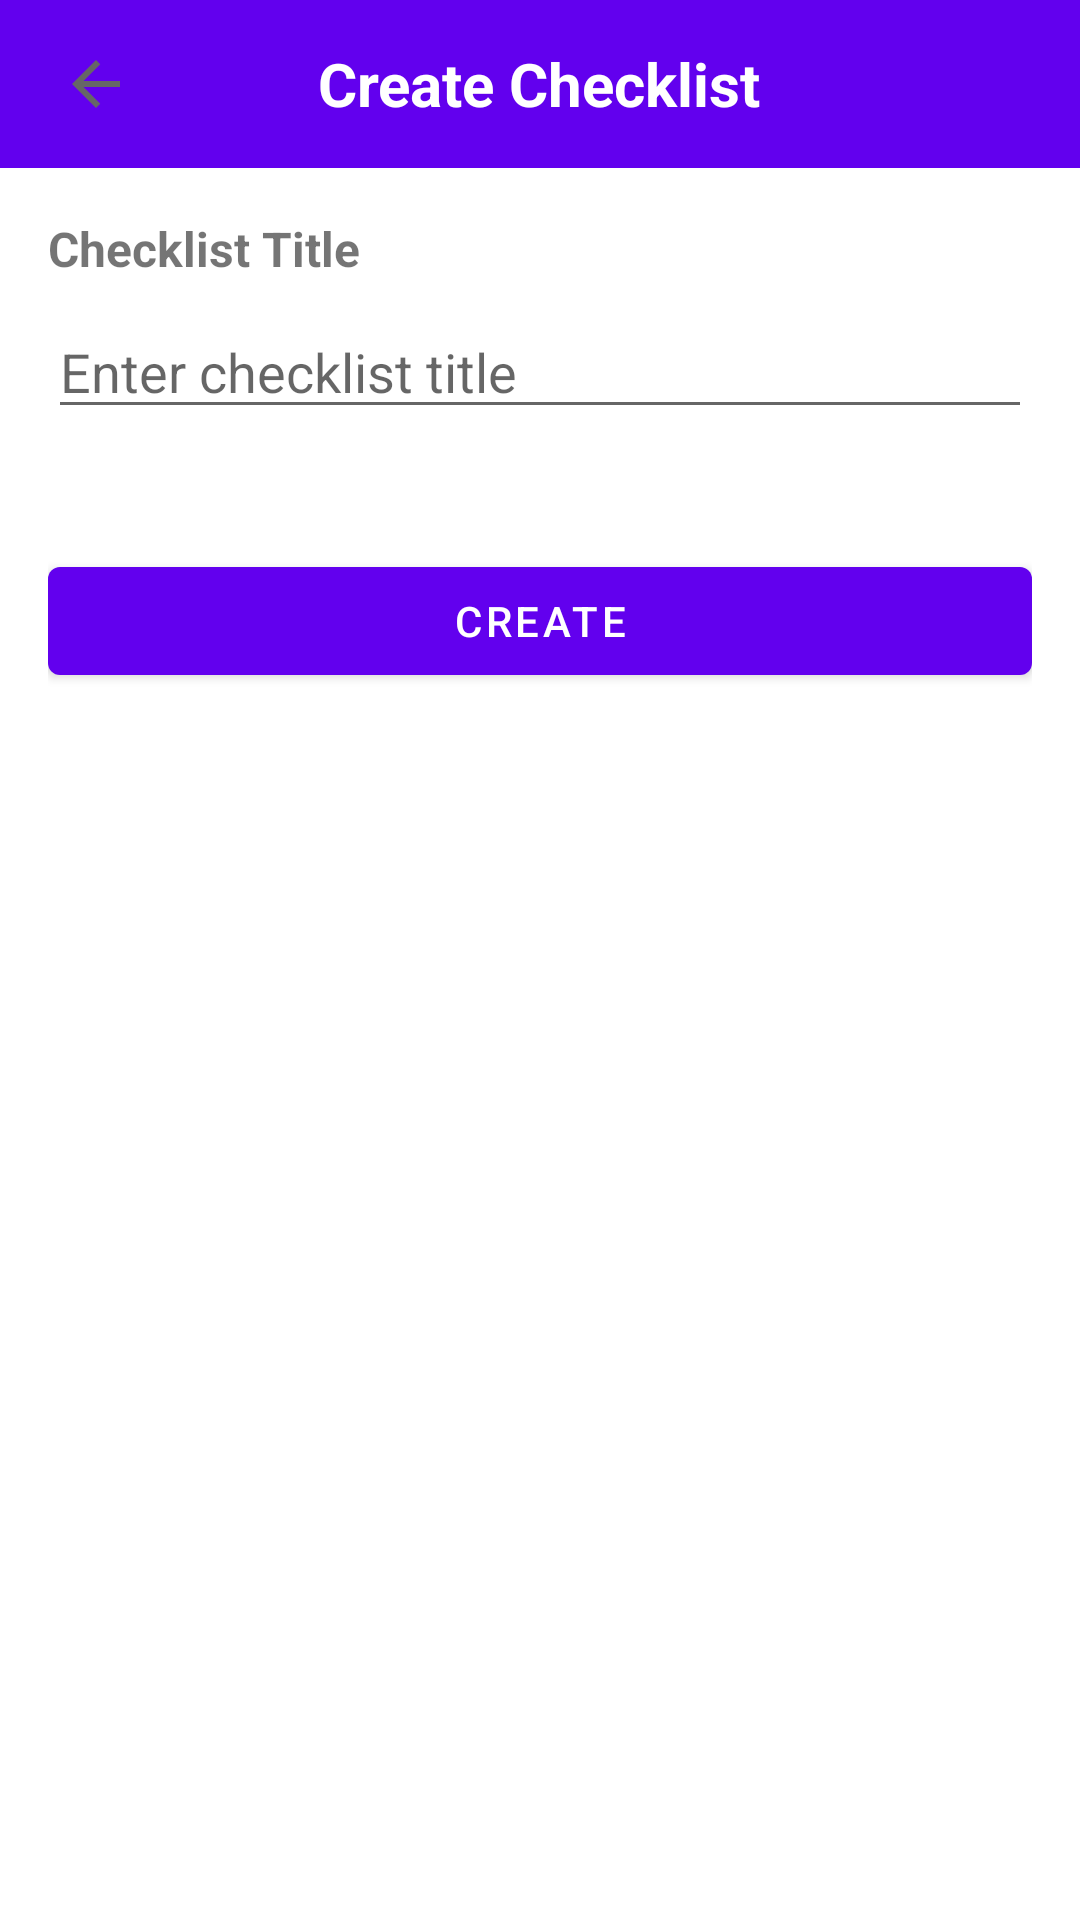

Screen size 1080x1920. Icon name, then its center in pixels as (x=x, y=y):
Back: (x=96, y=84)
